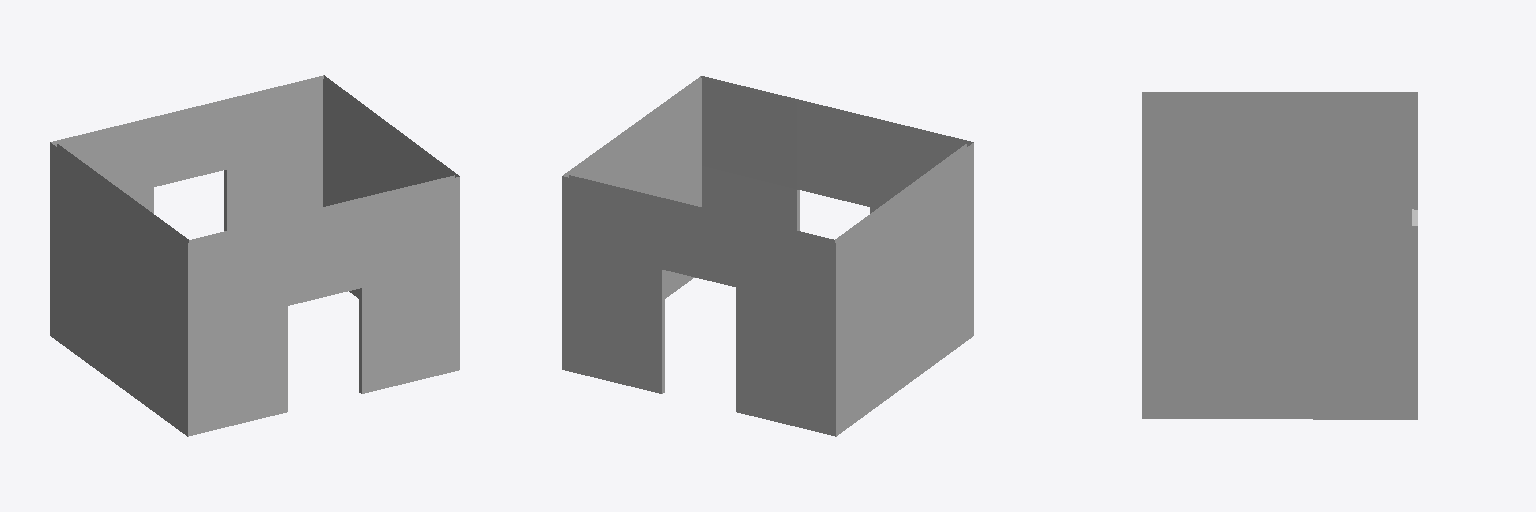
Rendered from TempleRoom2.obj.
3 renders of one model, left to right at view 1: azimuth 30°, elevation 25°; view 2: azimuth 150°, elevation 25°; view 3: azimuth 270°, elevation 25°, orthographic.
Visible parts, largest first — view 1: TempleRoom2; view 2: TempleRoom2; view 3: TempleRoom2.
Part boxes in pixels (x1,y1,x2,y2): TempleRoom2: (50, 75, 459, 436); TempleRoom2: (562, 76, 973, 436); TempleRoom2: (1142, 92, 1417, 419).
Bounding box in the file's own units: 1634 × 1102 × 1420.